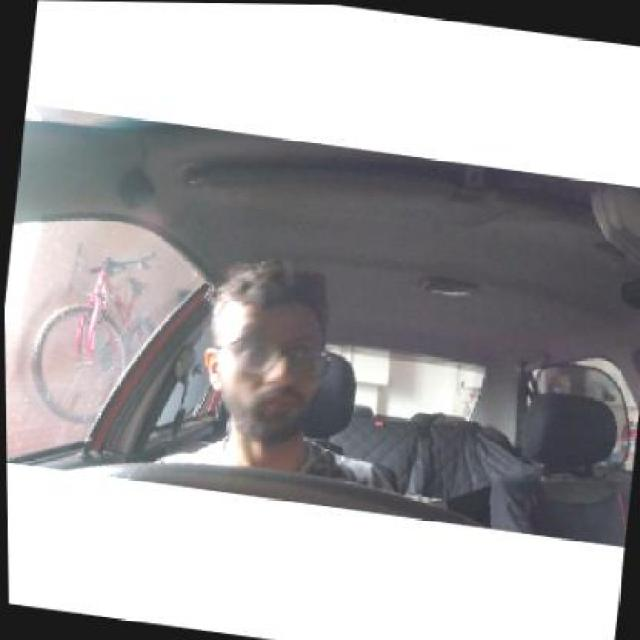person: (203, 244, 352, 453)
